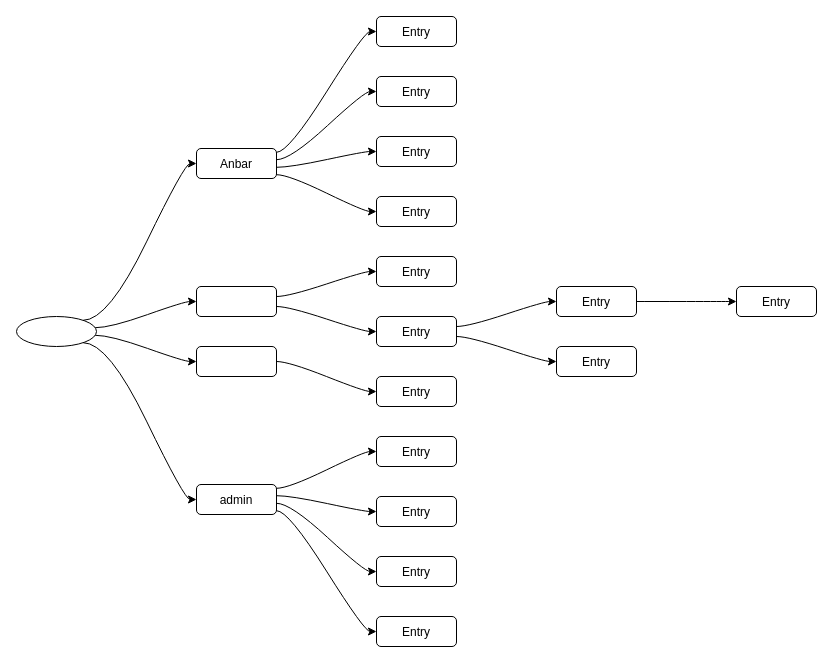
Some shapes in this 833 by 663 pixel diagram are drawn without their labels. Each missing label, with the box of its shape:
app: (16, 316, 96, 346)
fnc: (196, 286, 276, 316)
report: (196, 346, 276, 376)
